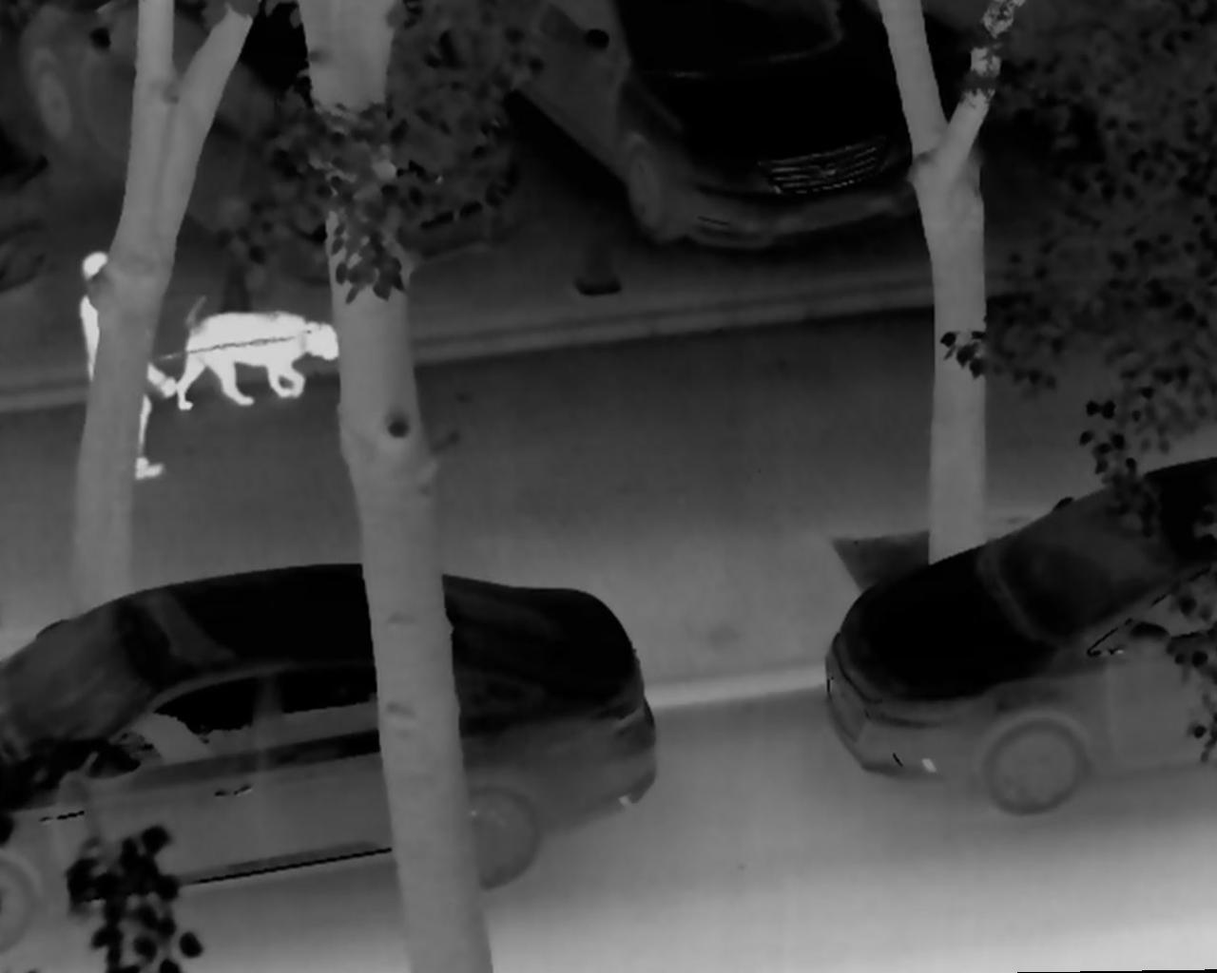person: (67, 254, 182, 491)
